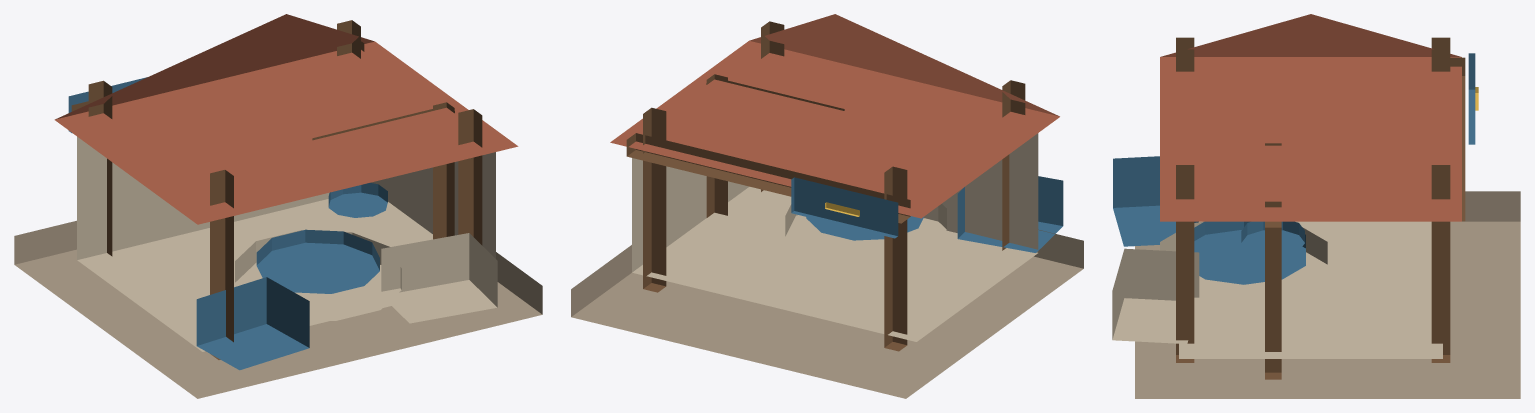
File: MiningCamp_authoring.glb
3 renders of one model, left to right at view 1: azimuth 30°, elevation 25°; view 2: azimuth 150°, elevation 25°; view 3: azimuth 270°, elevation 25°, orthographic. The views are drawn at different scales.
Visible parts, largest first — view 1: MiningCamp_authoring; view 2: MiningCamp_authoring; view 3: MiningCamp_authoring.
Boxes of the visible parts, <box> form: MiningCamp_authoring: <box>14,14,542,398</box>; MiningCamp_authoring: <box>571,14,1083,398</box>; MiningCamp_authoring: <box>1112,14,1520,398</box>.
Bounding box in the file's own units: 5 × 3.9 × 4.87.
